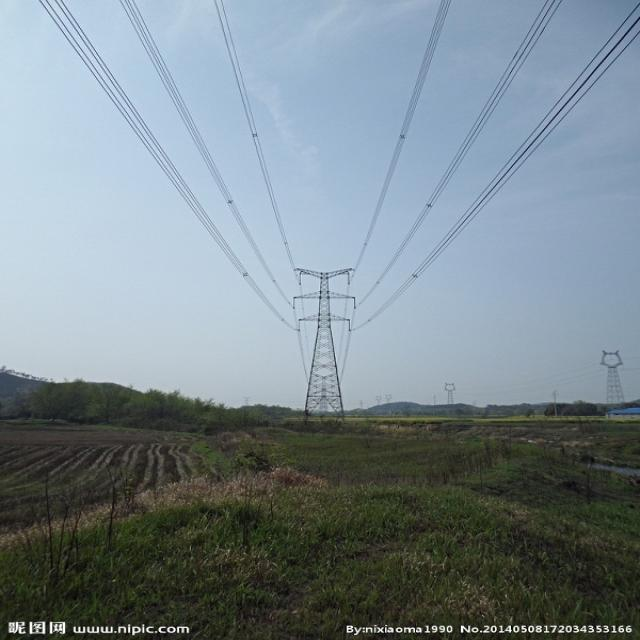non-critical vegetation: (278, 252, 372, 418)
